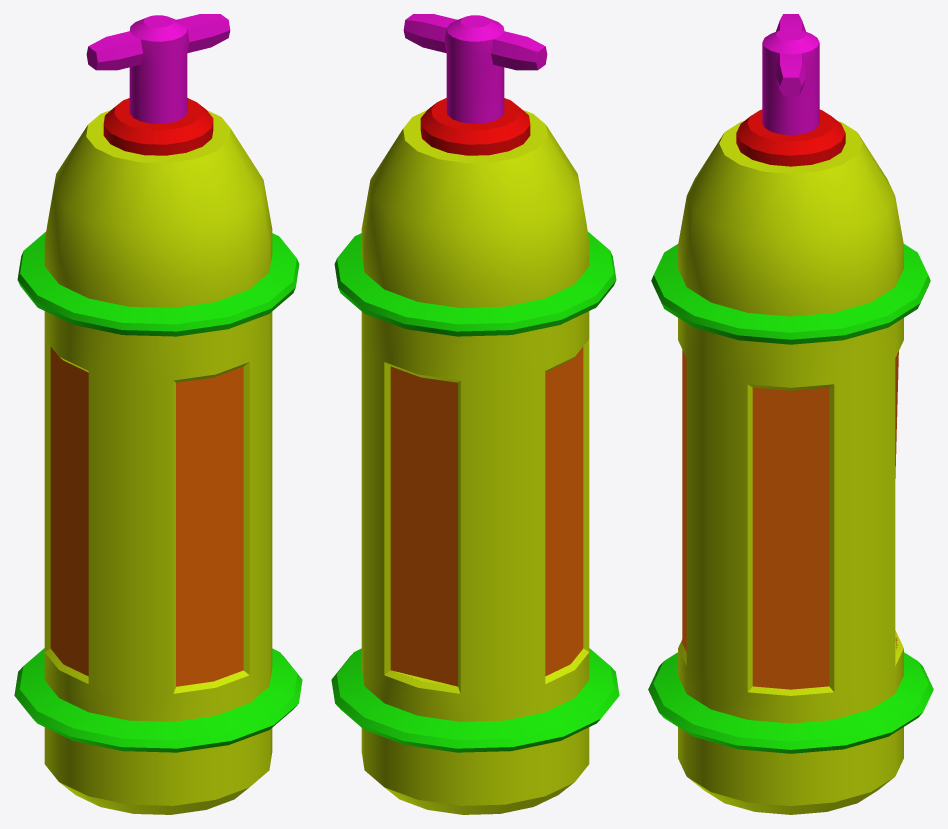
File: MagicCANUVID.fbx
The picture shows the model from 3 angles, left to right: view 1: azimuth 30°, elevation 25°; view 2: azimuth 150°, elevation 25°; view 3: azimuth 270°, elevation 25°; orthographic projection.
Visible parts, largest first — view 1: MagicCan, Windows; view 2: MagicCan, Windows; view 3: MagicCan, Windows.
Part boxes in pixels (left/top/right/bottom): MagicCan: left=14, top=14, right=302, bottom=814; Windows: left=50, top=347, right=243, bottom=686; MagicCan: left=331, top=14, right=619, bottom=814; Windows: left=390, top=347, right=583, bottom=686; MagicCan: left=648, top=14, right=933, bottom=814; Windows: left=682, top=350, right=898, bottom=689.
Bounding box in the file's own units: 253 × 724 × 253.
